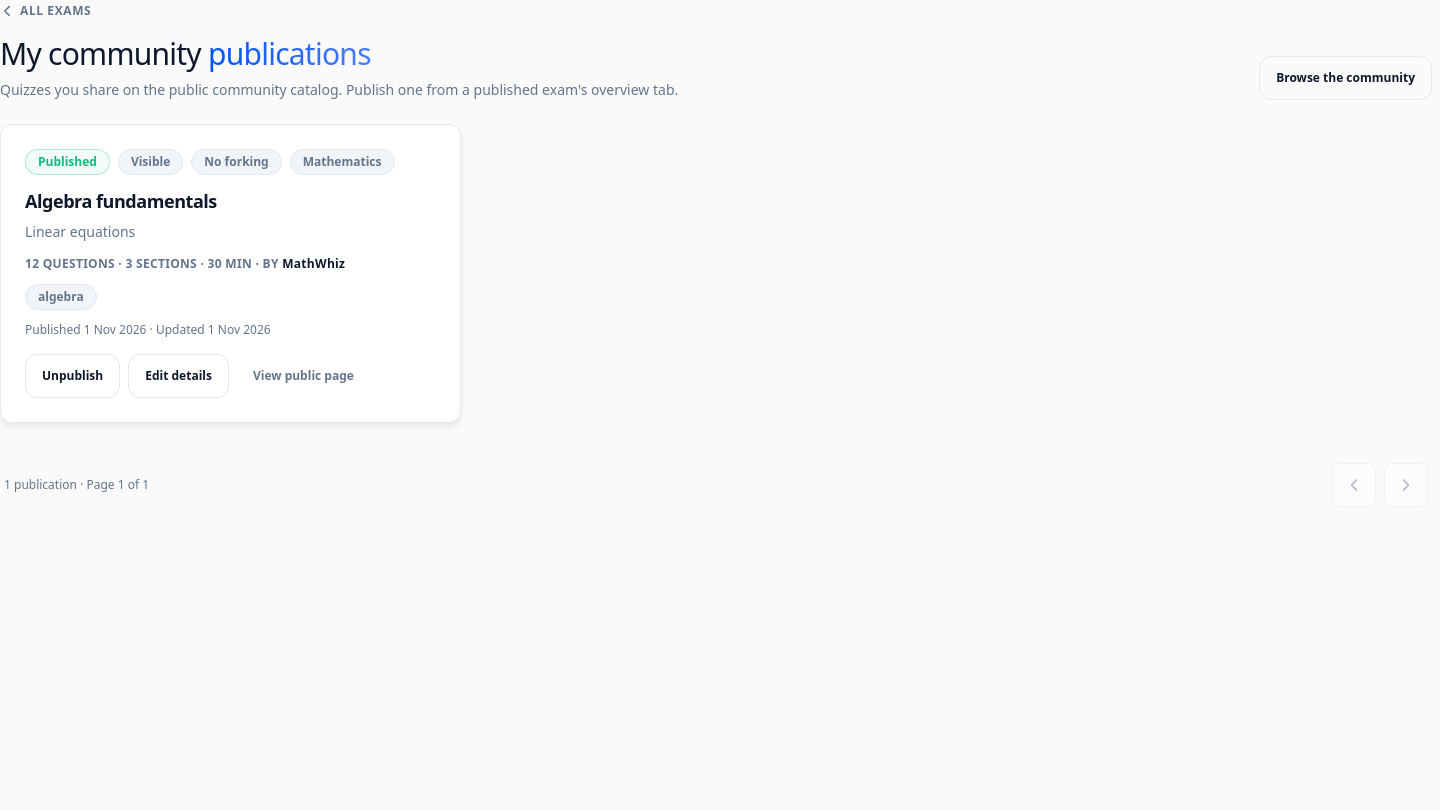
Test: /community/mine › PATCHes with expectedVersion and surfaces the conflict copy on 409
This screenshot has width=1440, height=810.
Click the button "Edit details". click: x=179, y=376
box: x1=128 y1=354 x2=229 y2=398
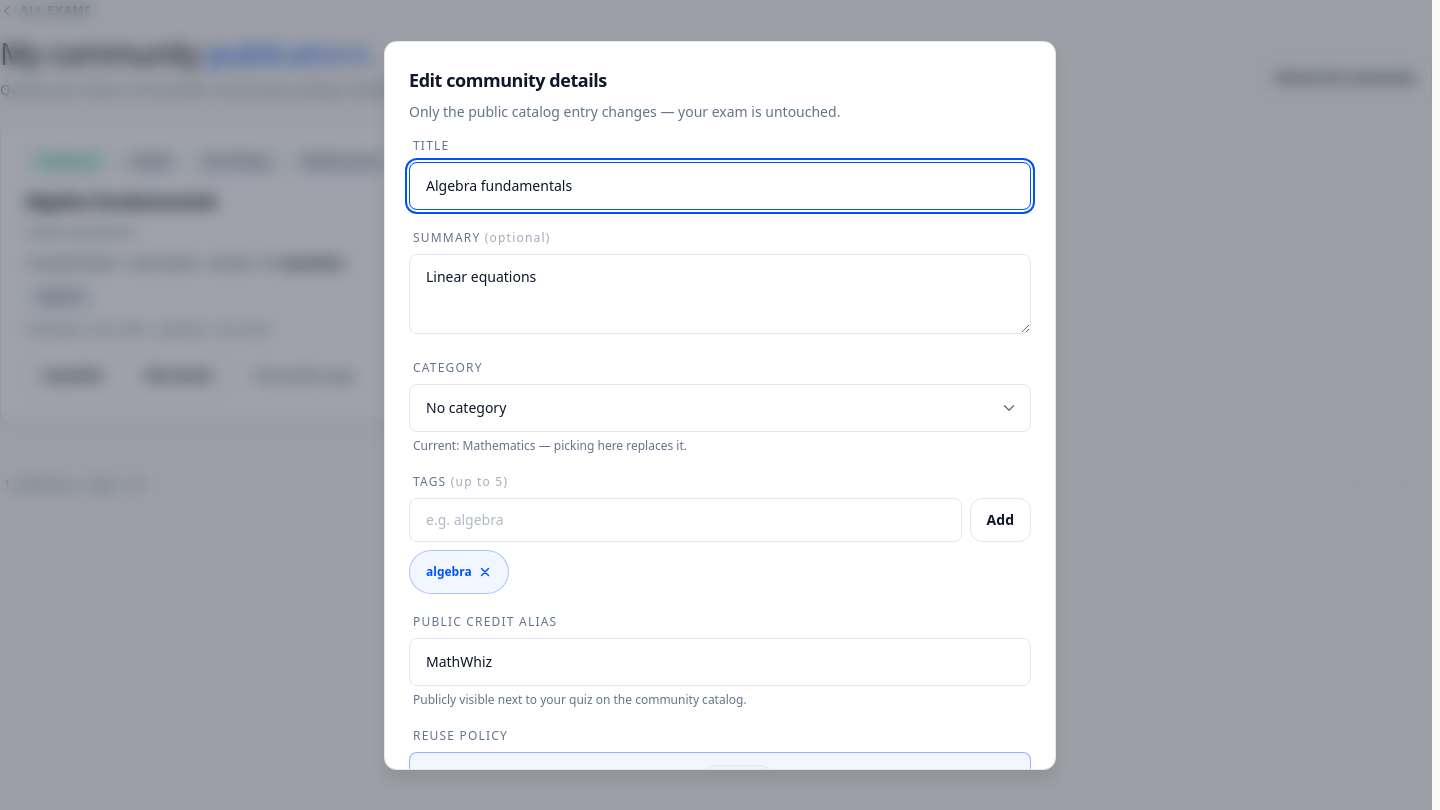
Replace the text in the field labelled "Title" with "Renamed quiz". click: x=720, y=186
box: x1=409 y1=162 x2=1031 y2=210
(page scrolled)
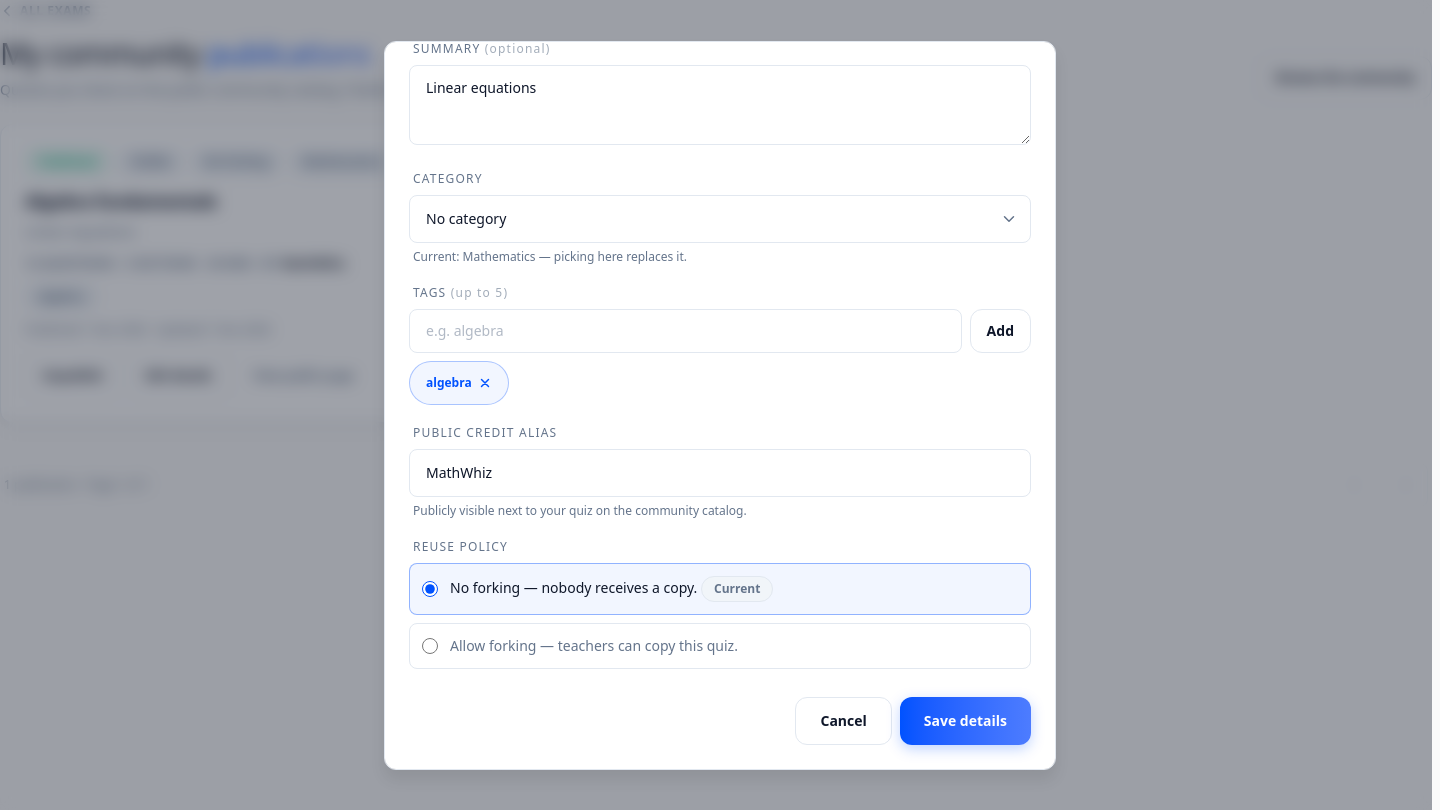
Click the button "Save details". click: x=965, y=720
box: x1=900 y1=696 x2=1031 y2=744
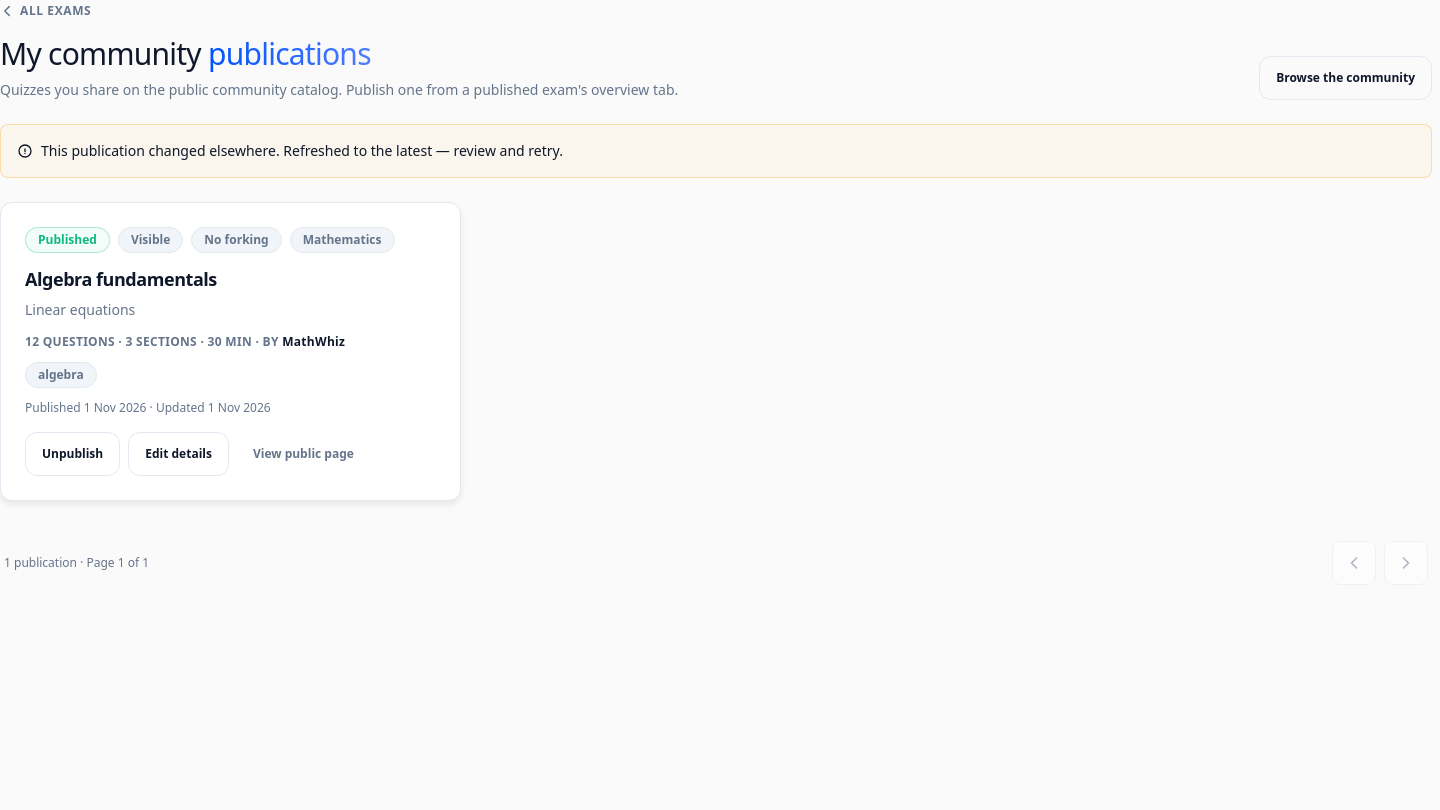
Check: the label labelled "Title" is not shown
Check: the text "changed elsewhere" is shown, box x1=41 y1=141 x2=563 y2=160
